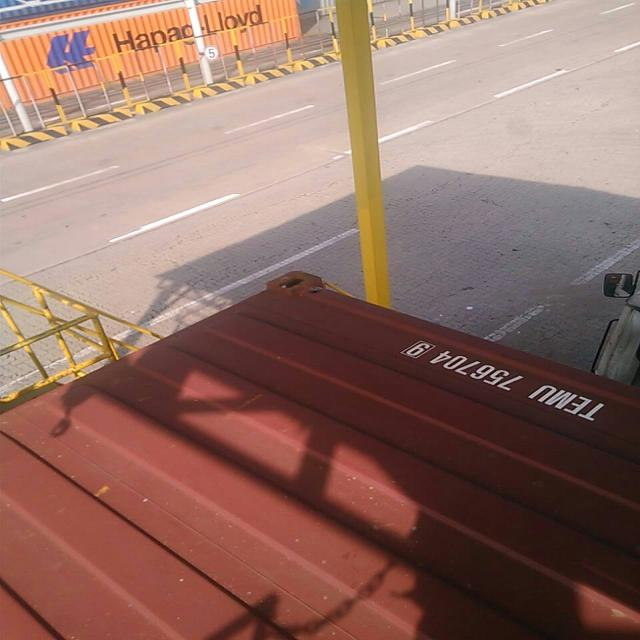hole: (306, 289, 326, 298)
